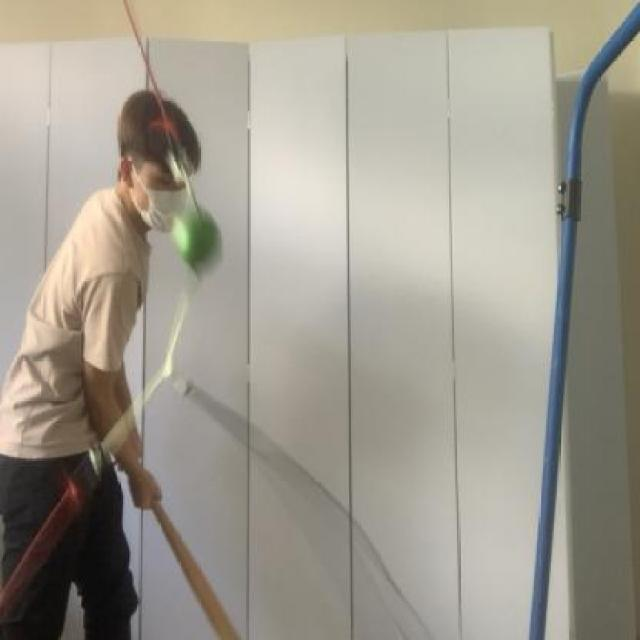baseball: (157, 193, 235, 284)
